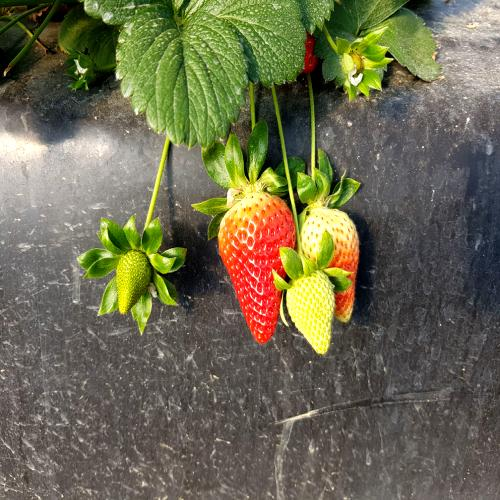ripe: (218, 183, 294, 346)
